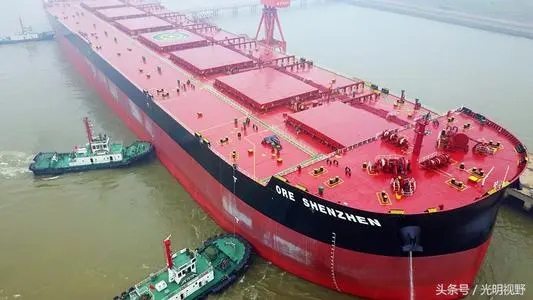Cargoship: (42, 1, 522, 300)
otherboat: (111, 228, 251, 297), (29, 118, 155, 181), (1, 18, 59, 42)
